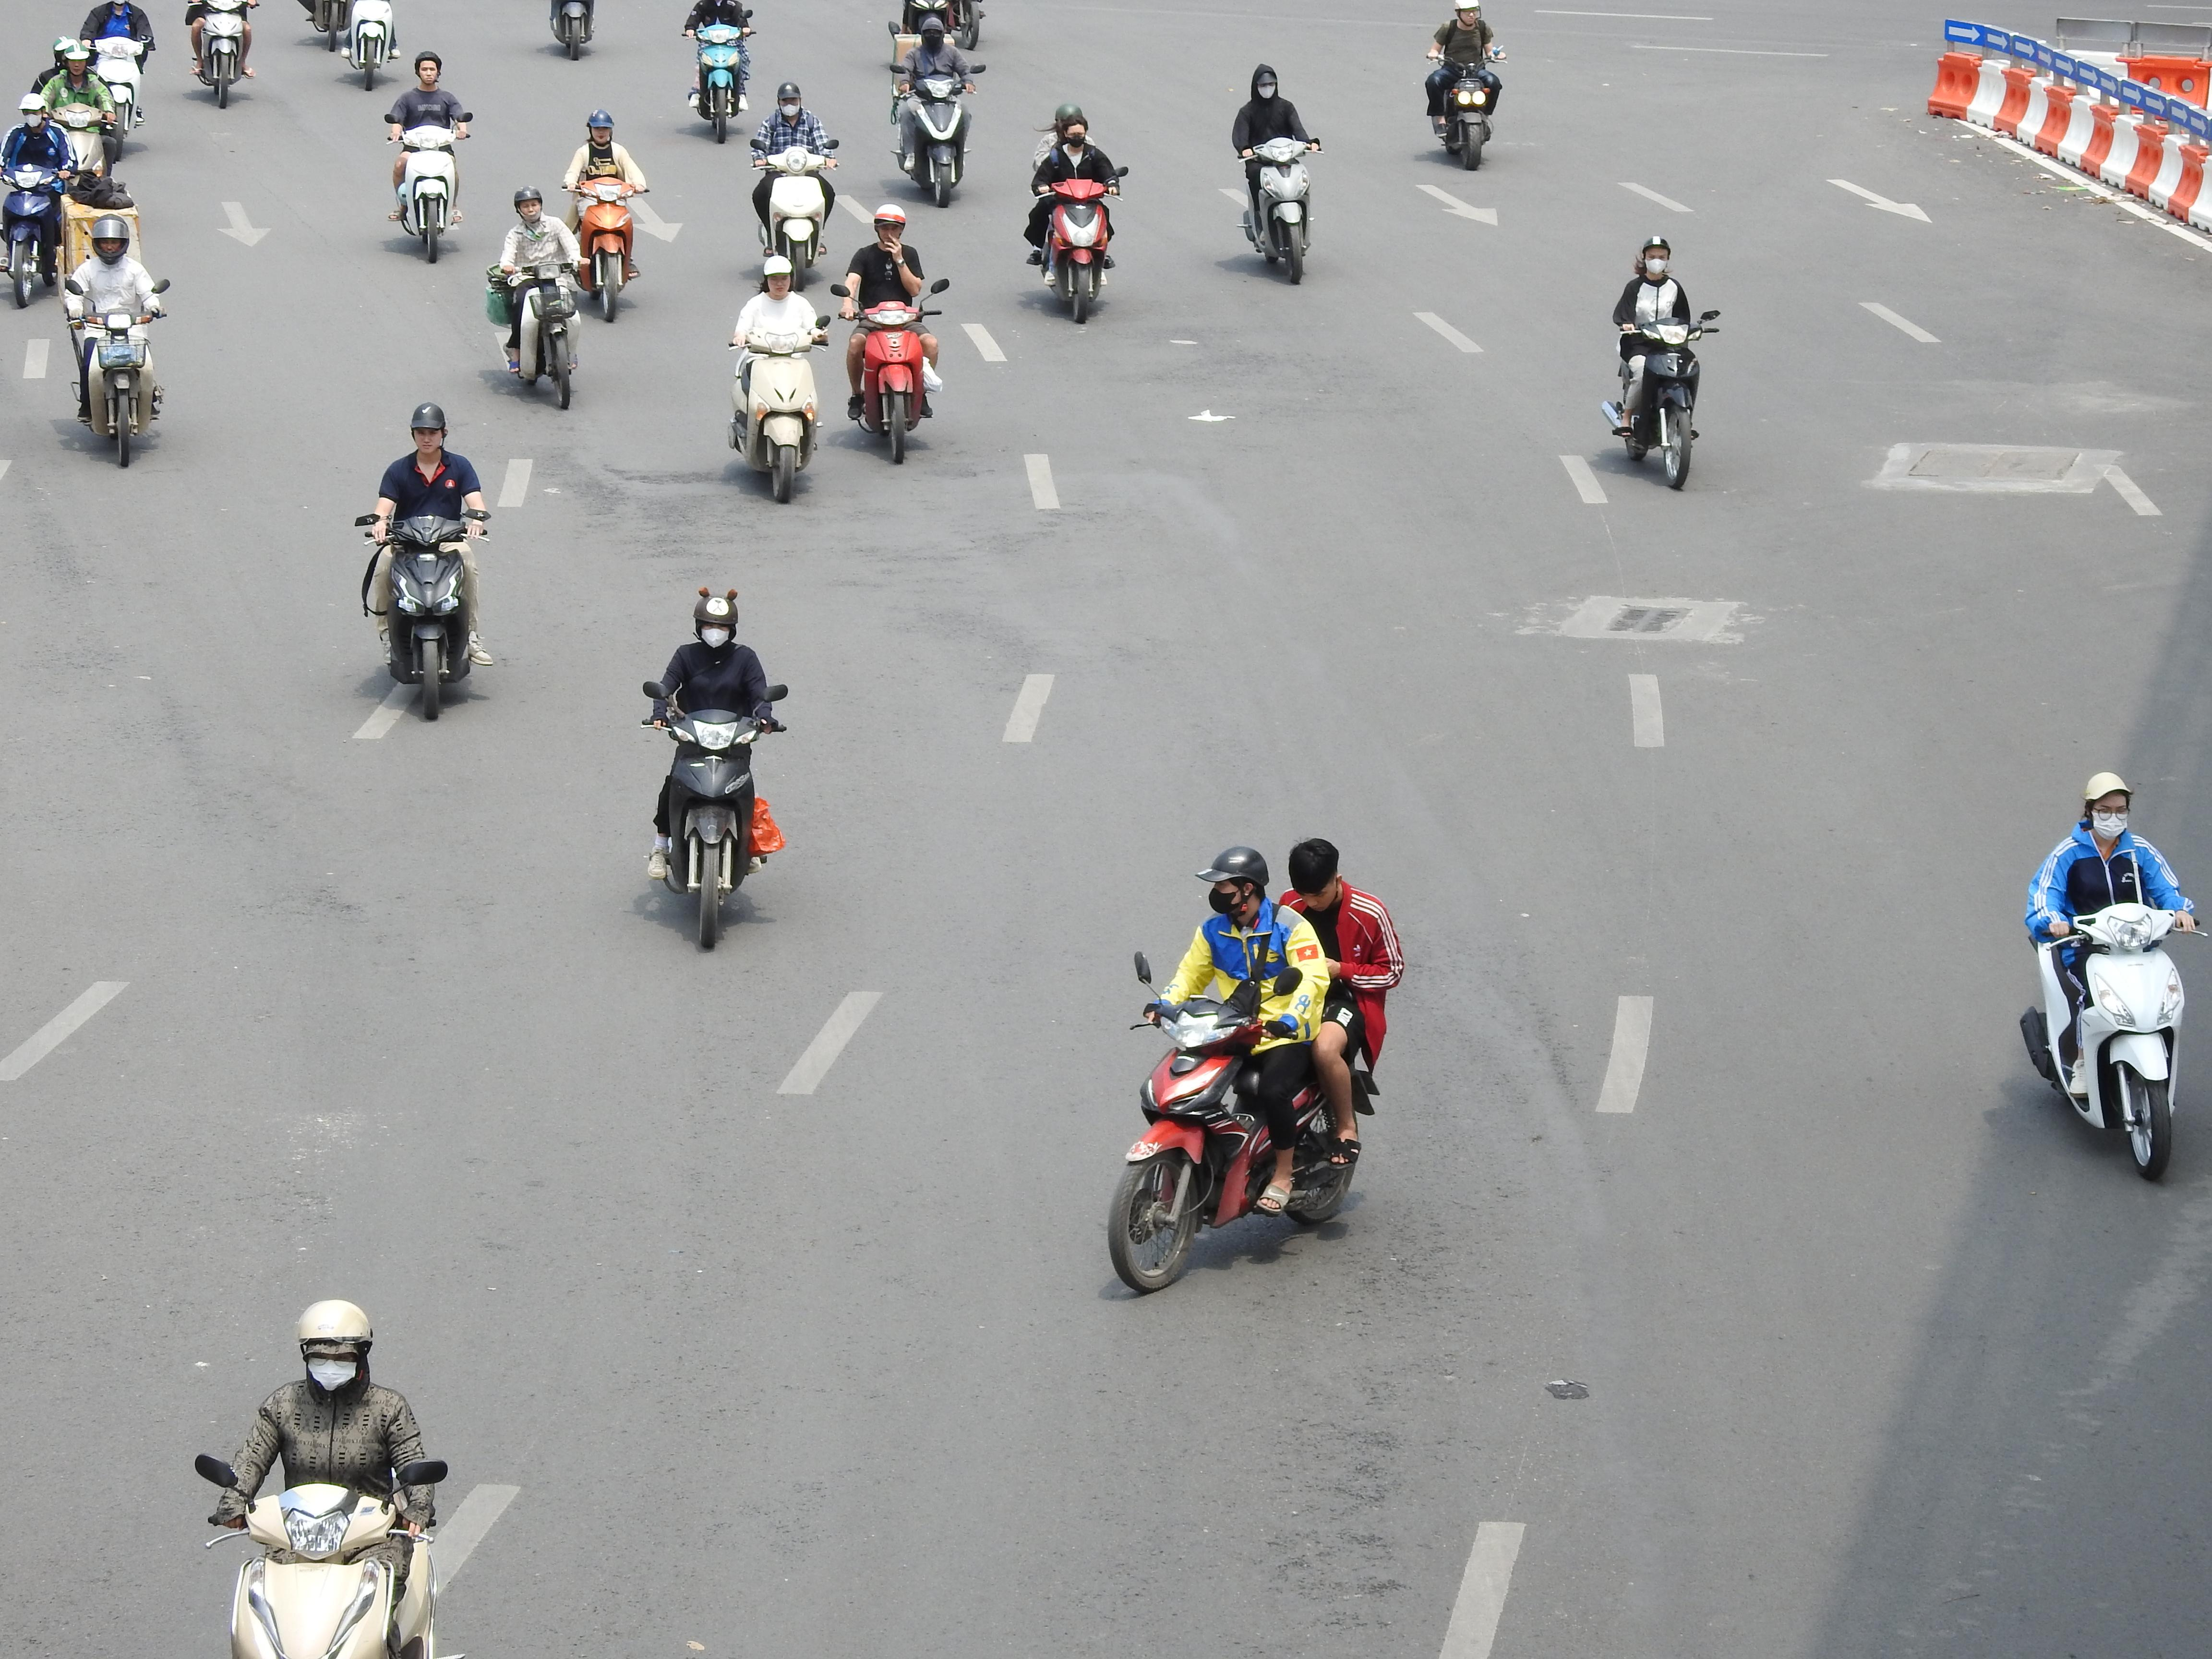motorbike: (1106, 838, 1397, 1297), (193, 1297, 451, 1659), (2020, 772, 2198, 1183), (643, 586, 786, 953), (359, 401, 491, 721), (836, 202, 946, 465), (1606, 235, 1717, 491), (64, 211, 167, 469), (728, 253, 827, 505), (1026, 103, 1123, 326), (488, 186, 585, 410), (1233, 64, 1320, 286), (749, 80, 840, 286), (385, 51, 472, 263), (890, 7, 979, 207), (564, 110, 646, 322), (0, 91, 77, 308), (28, 35, 124, 197), (1425, 2, 1503, 171), (78, 0, 153, 153), (685, 0, 756, 143), (186, 0, 258, 106), (336, 0, 401, 91), (894, 0, 989, 51), (542, 0, 604, 61)
